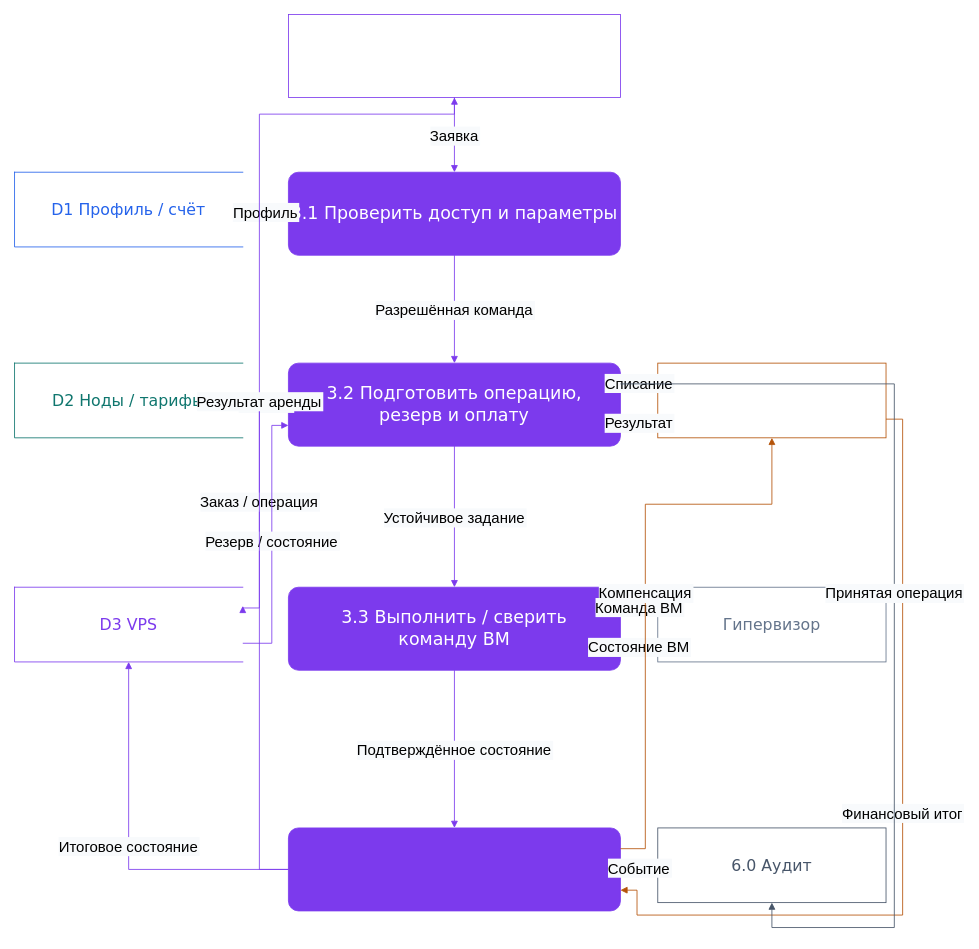
This 979x949 diagram has some shape labels left out. The centre of each missing label's shape, as x and y in pixels:
"3.4 Зафиксировать результат" belongs at (x=454, y=869).
"4.0 Финансовый учёт" belongs at (x=771, y=400).
"Клиент: заявка / команда и ключ" belongs at (x=454, y=56).
